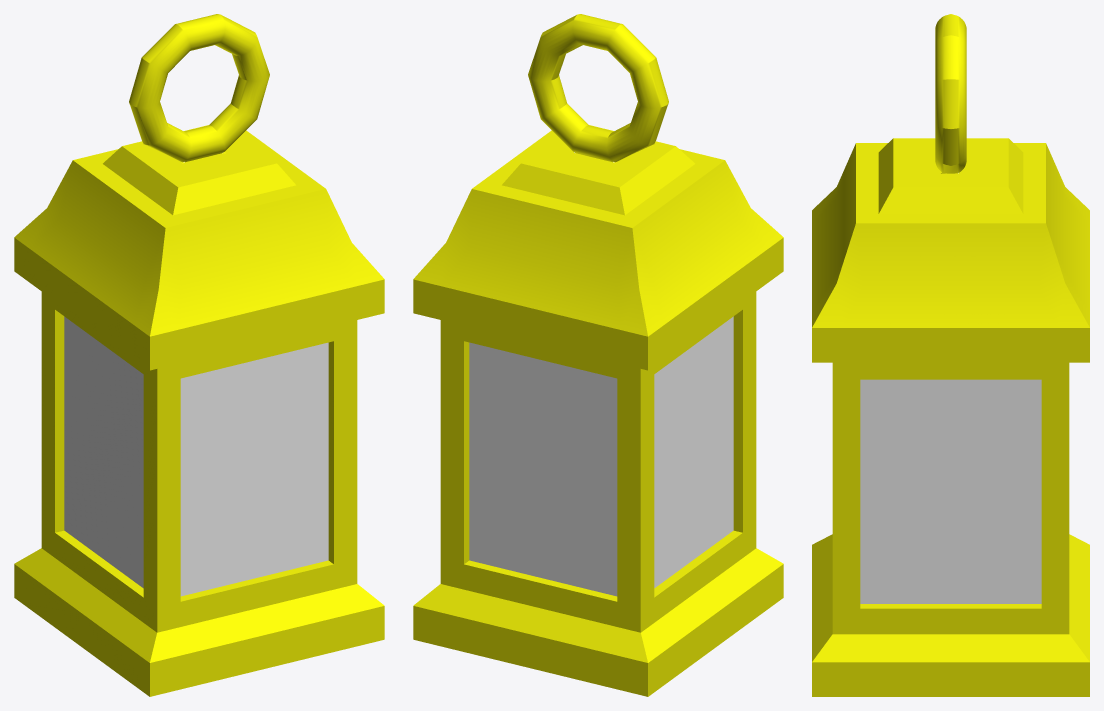
File: HandLantern.glb
3 renders of one model, left to right at view 1: azimuth 30°, elevation 25°; view 2: azimuth 150°, elevation 25°; view 3: azimuth 270°, elevation 25°, orthographic. The views are drawn at different scales.
Visible parts, largest first — view 1: Flashlight; view 2: Flashlight; view 3: Flashlight.
Part boxes in pixels (x1=…): Flashlight: x1=14, y1=14, x2=384, y2=696; Flashlight: x1=413, y1=14, x2=783, y2=696; Flashlight: x1=812, y1=14, x2=1089, y2=696.
Bounding box in the file's own units: 0.2052 × 0.4997 × 0.2052.
